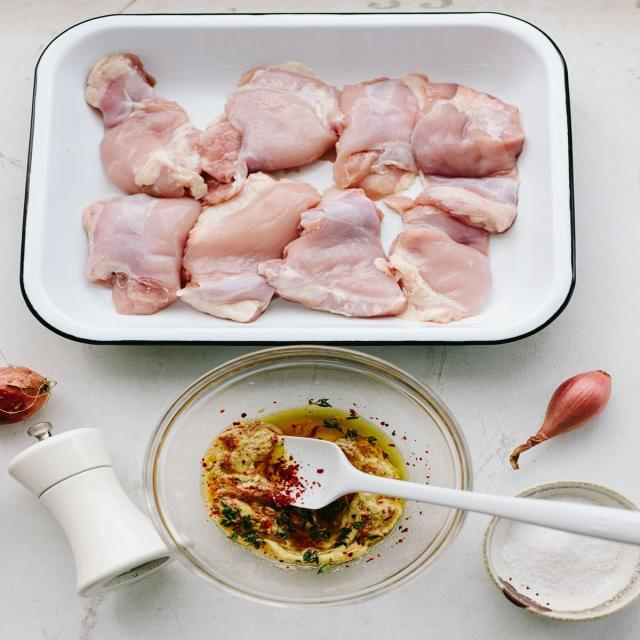thigh: (74, 193, 187, 327), (277, 182, 383, 320), (191, 181, 291, 324)
